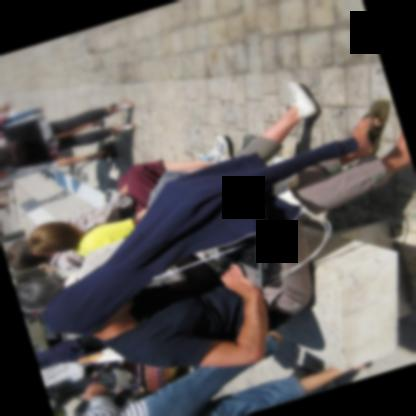handbag: (93, 359, 190, 399)
